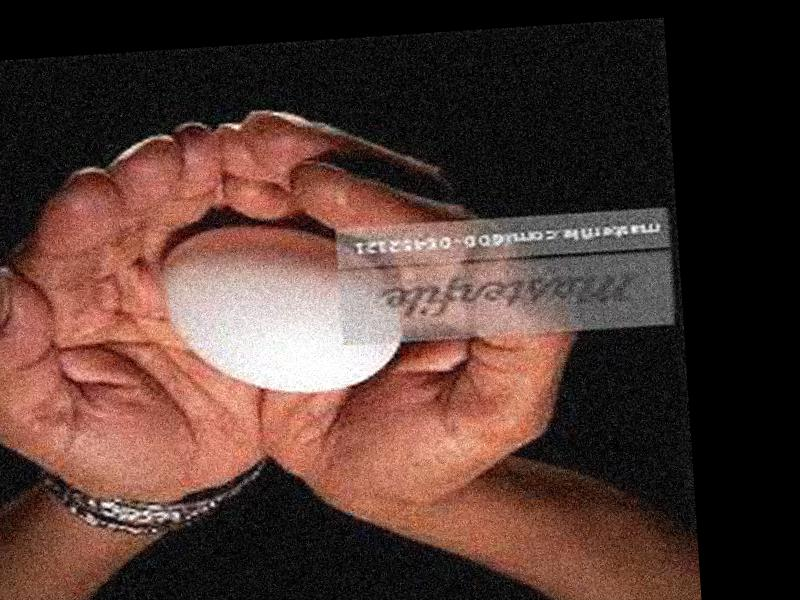Eggs: (156, 213, 405, 402)
